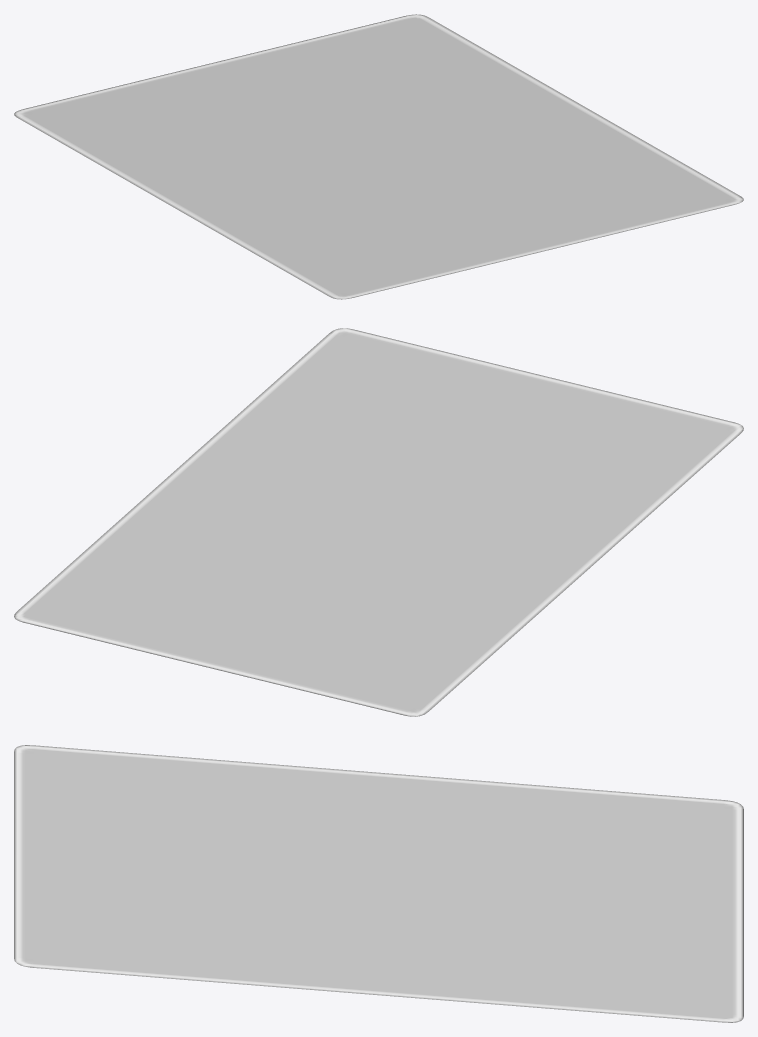
Rendered from Highlight_Slot_Active.fbx.
3 renders of one model, top to bottom at view 1: azimuth 30°, elevation 25°; view 2: azimuth 150°, elevation 25°; view 3: azimuth 270°, elevation 25°, orthographic. The views are drawn at different scales.
Visible parts, largest first — view 1: Highlight_Slot_Active; view 2: Highlight_Slot_Active; view 3: Highlight_Slot_Active.
Part boxes in pixels (box(x1,y1,x2,y2)): Highlight_Slot_Active: box(14, 14, 743, 299); Highlight_Slot_Active: box(14, 328, 743, 716); Highlight_Slot_Active: box(14, 745, 743, 1022).
Bounding box in the file's own units: 2.87 × 0.3483 × 3.98.
